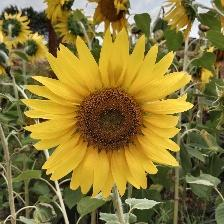sunflower: (23, 27, 197, 202)
